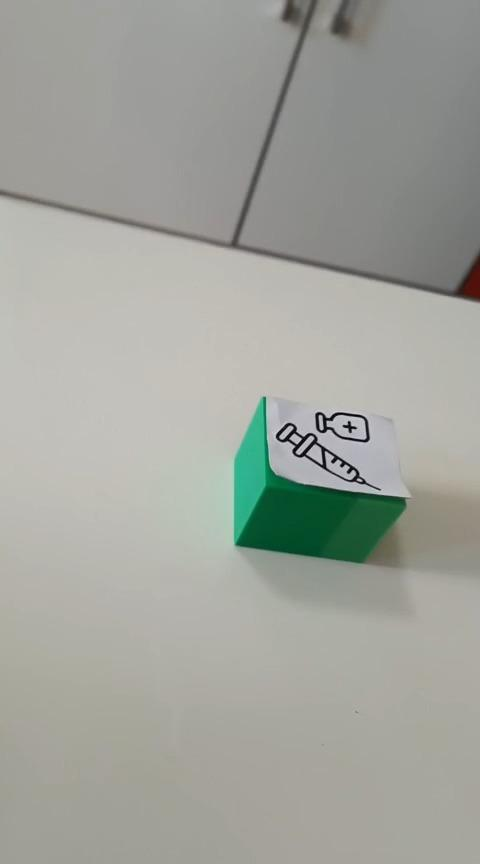antiseptic cream: (231, 393, 412, 563)
